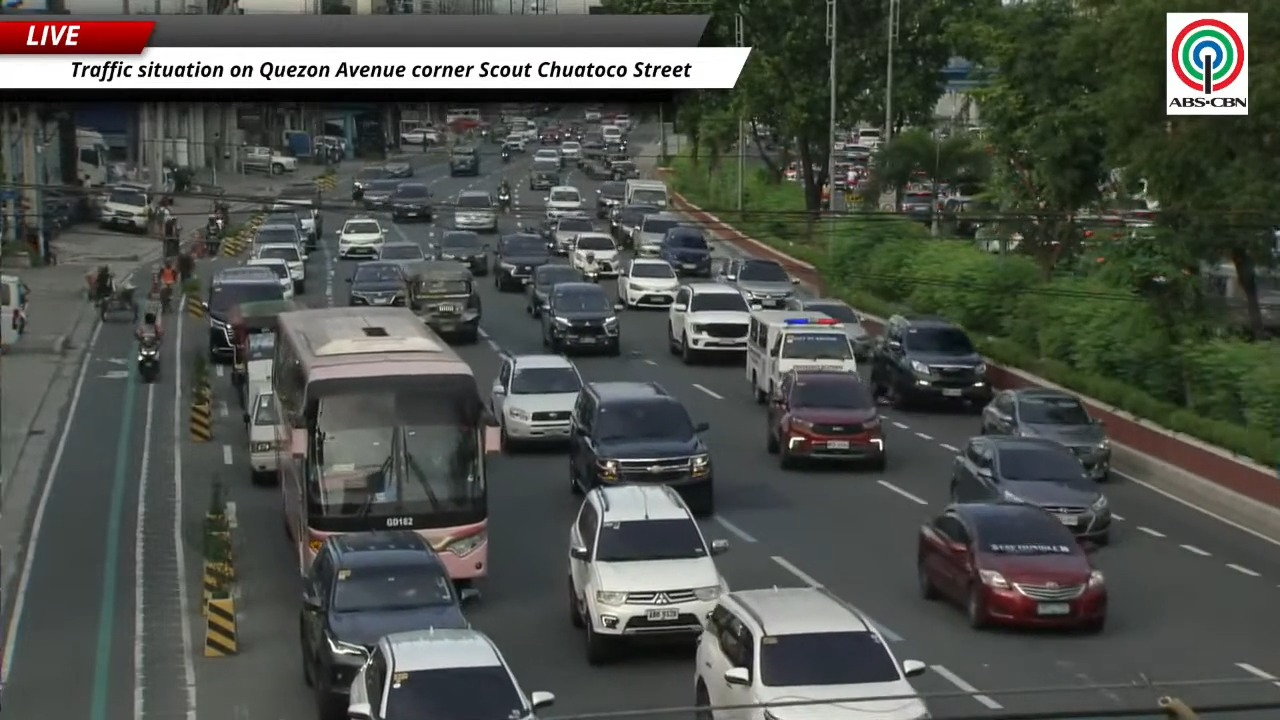bus: (272, 307, 500, 585), (445, 108, 481, 128)
car: (300, 530, 473, 717), (694, 587, 929, 719), (568, 483, 727, 664), (917, 502, 1107, 631), (569, 381, 714, 516), (342, 629, 554, 719), (949, 436, 1112, 544), (980, 388, 1110, 481), (767, 370, 886, 470), (871, 315, 992, 408), (490, 354, 581, 452), (202, 266, 284, 362), (667, 282, 750, 363), (402, 261, 482, 343), (540, 283, 620, 355), (787, 296, 873, 359), (716, 258, 797, 308), (270, 182, 322, 249), (492, 233, 550, 291), (617, 258, 679, 307), (526, 264, 583, 317), (657, 225, 711, 277), (348, 260, 407, 306), (252, 243, 305, 293), (430, 230, 488, 275), (99, 183, 152, 231), (569, 231, 621, 279), (631, 211, 681, 256), (610, 204, 660, 248), (246, 257, 293, 299), (338, 216, 384, 258), (453, 190, 497, 232), (259, 210, 311, 245), (551, 216, 594, 255), (251, 222, 304, 253), (389, 183, 432, 221), (545, 185, 584, 220), (361, 178, 401, 209), (899, 190, 935, 223), (596, 181, 625, 218), (376, 241, 425, 262), (449, 146, 480, 176), (529, 162, 560, 190), (353, 166, 389, 189), (580, 157, 612, 180), (401, 126, 440, 144), (608, 158, 639, 180), (533, 148, 563, 167), (384, 160, 414, 178), (560, 140, 581, 162), (503, 134, 525, 152), (539, 128, 560, 145), (584, 109, 601, 122)
motorcycle: (137, 337, 159, 382), (204, 213, 224, 254), (582, 252, 599, 283), (158, 283, 173, 313), (498, 189, 510, 212), (352, 185, 363, 202), (500, 149, 510, 162)
truck: (746, 309, 857, 401), (75, 127, 109, 186), (240, 146, 297, 175), (624, 180, 669, 208)
